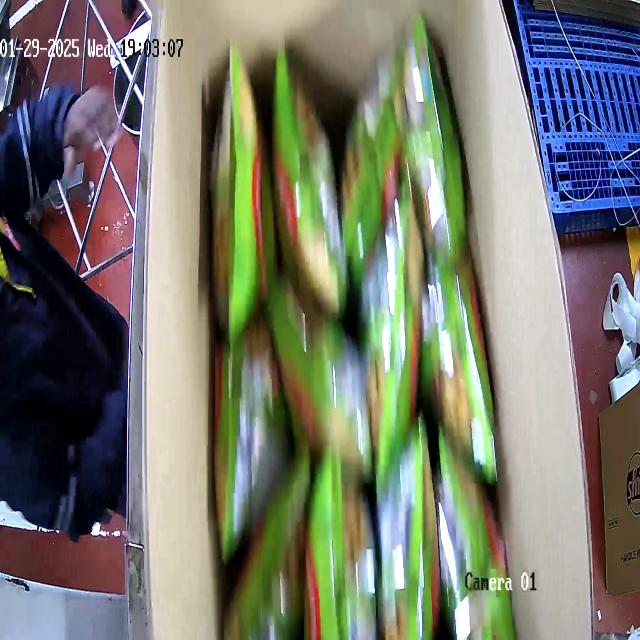YOGURT_HERB: (208, 13, 516, 638)
